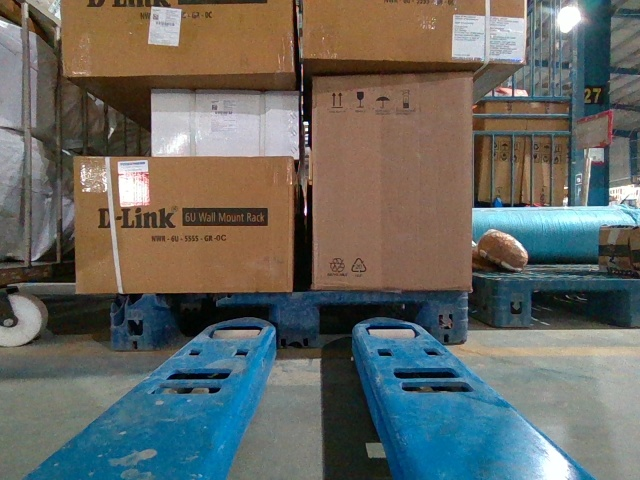block: (111, 292, 163, 351), (272, 289, 321, 349), (424, 292, 469, 342), (496, 280, 533, 329)
front: (116, 291, 465, 350)
hole pallet: (155, 299, 279, 351), (316, 297, 434, 348), (528, 283, 637, 329)
